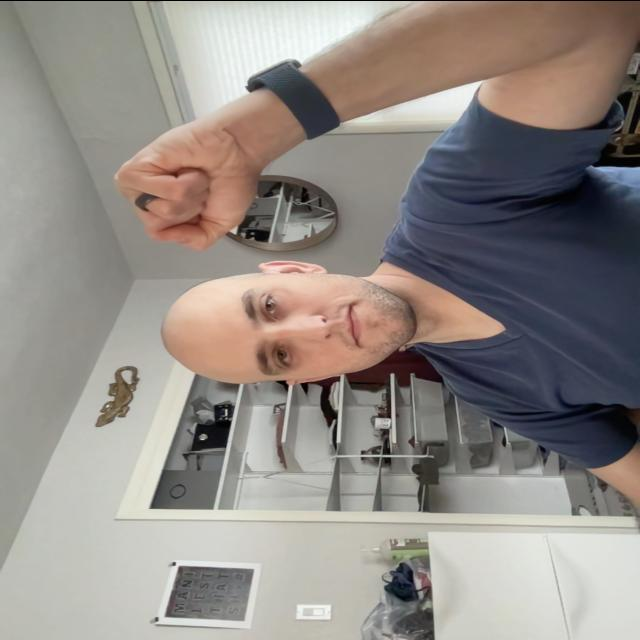Rock: (110, 124, 264, 252)
